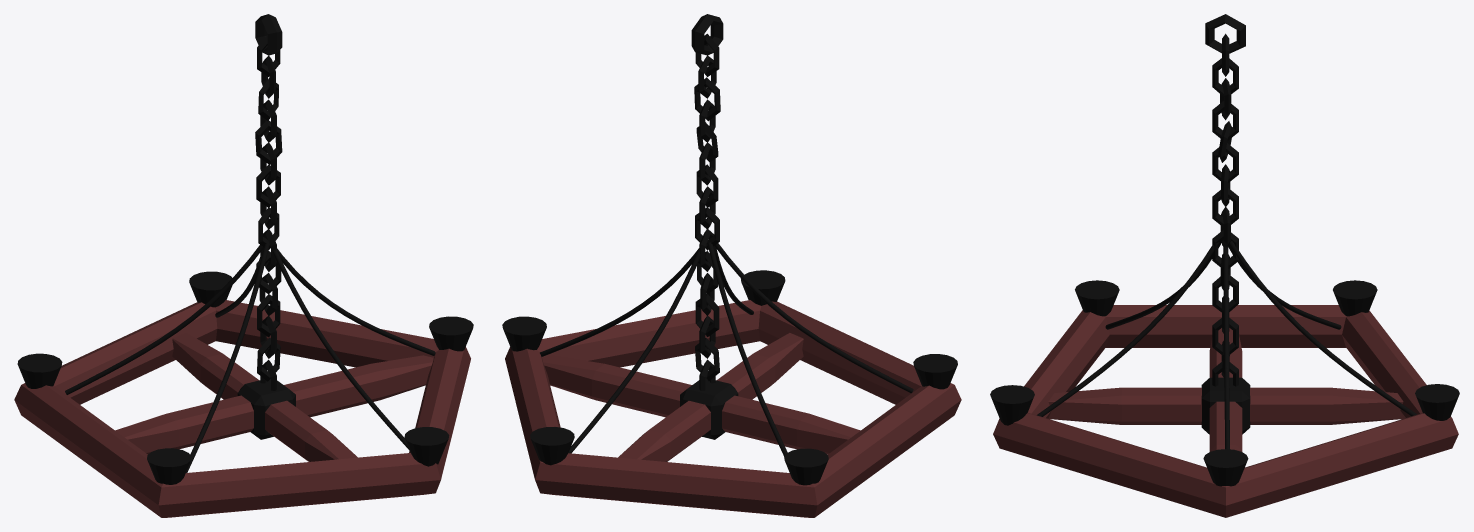
Rendered from Kronleuchter.fbx.
The picture shows the model from 3 angles, left to right: view 1: azimuth 30°, elevation 25°; view 2: azimuth 150°, elevation 25°; view 3: azimuth 270°, elevation 25°; orthographic projection.
Parts seen in each view (by area): view 1: Torus.001, Cube, Cube.001, Cube.002, BezierCurve.002, Cone.005, BezierCurve.003, BezierCurve.004, Cone.004, Cone.001, Cone.003, Cone.002 (+6 smaller); view 2: Torus.001, Cube, Cube.001, Cube.002, BezierCurve.003, BezierCurve.001, Cone.002, Cone.001, BezierCurve.002, Cone.003, Cone.004, Cone.005 (+6 smaller); view 3: Torus.001, Cube.001, Cube, Cube.002, BezierCurve.001, BezierCurve.004, Cone.005, Cone.003, Cone.002, Cone.001, Cone.004, BezierCurve (+3 smaller).
Part boxes in pixels (<box>): Torus.001: <box>14,300,470,517</box>; Cube: <box>115,355,433,454</box>; Cube.001: <box>172,333,357,461</box>; Cube.002: <box>237,378,295,439</box>; BezierCurve.002: <box>65,244,263,394</box>; Cone.005: <box>404,427,449,466</box>; BezierCurve.003: <box>186,243,269,472</box>; BezierCurve.004: <box>269,245,409,450</box>; Cone.004: <box>147,448,191,484</box>; Cone.001: <box>17,353,62,388</box>; Cone.003: <box>429,316,473,351</box>; Cone.002: <box>189,271,232,307</box>; Torus.001: <box>505,300,961,517</box>; Cube: <box>542,355,860,454</box>; Cube.001: <box>618,333,803,461</box>; Cube.002: <box>680,378,738,439</box>; BezierCurve.003: <box>714,243,913,393</box>; BezierCurve.001: <box>568,248,700,453</box>; Cone.002: <box>530,427,574,465</box>; Cone.001: <box>784,448,828,485</box>; BezierCurve.002: <box>707,242,787,456</box>; Cone.003: <box>502,316,546,351</box>; Cone.004: <box>913,354,957,389</box>; Cone.005: <box>740,270,785,305</box>; Torus.001: <box>993,305,1458,517</box>; Cube.001: <box>1048,387,1403,424</box>; Cube: <box>1209,328,1242,451</box>; Cube.002: <box>1201,377,1250,434</box>; BezierCurve.001: <box>1229,241,1417,416</box>; BezierCurve.004: <box>1037,242,1219,416</box>; Cone.005: <box>990,385,1034,425</box>; Cone.003: <box>1203,449,1248,486</box>; Cone.002: <box>1415,384,1459,420</box>; Cone.001: <box>1333,280,1377,316</box>; Cone.004: <box>1075,280,1119,316</box>; BezierCurve: <box>1223,241,1229,449</box>.
Size of the model in its own units: 356 by 367 by 376.
